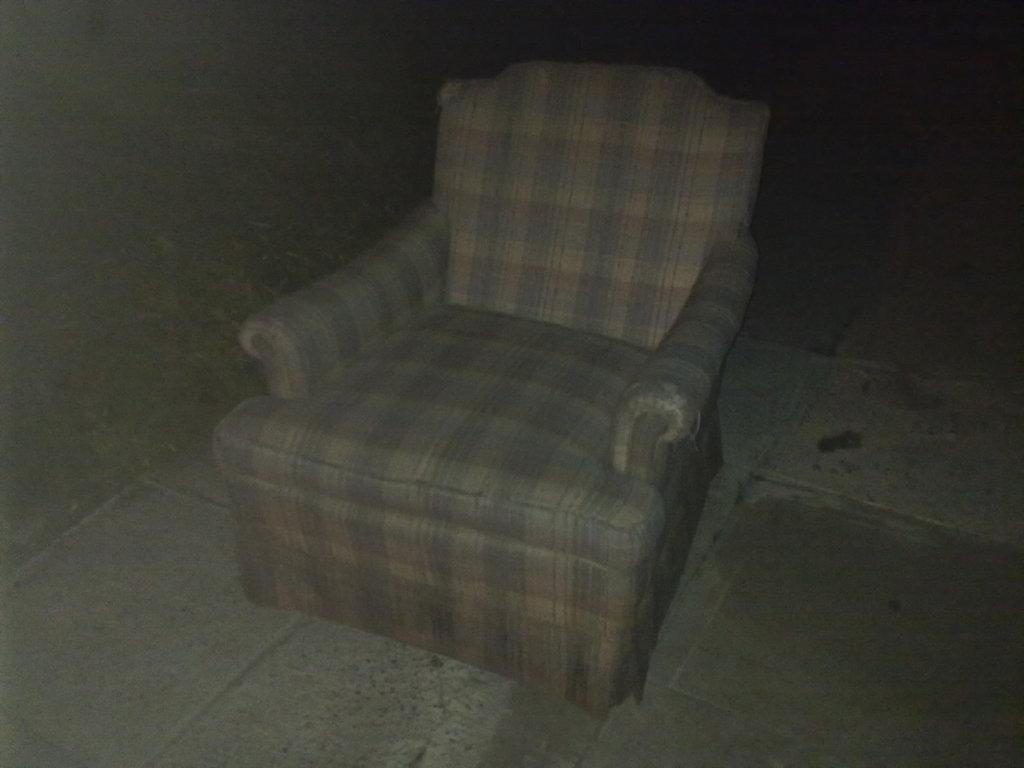Chair: (231, 73, 771, 692)
